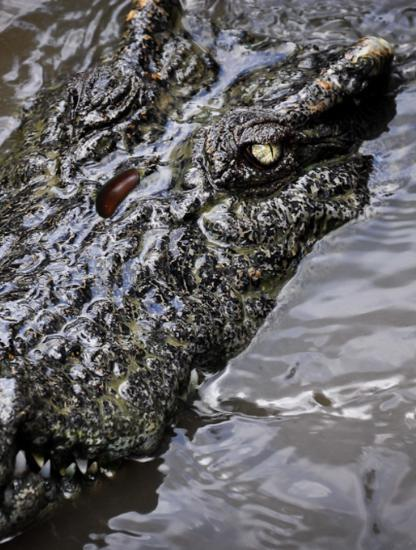Eggplant: (85, 157, 152, 224)
